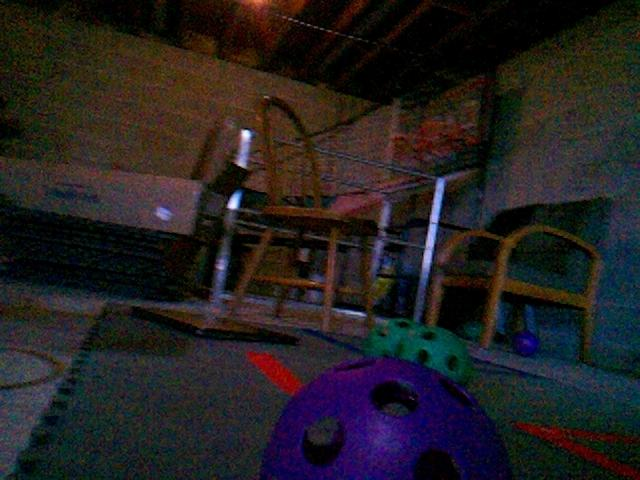Green: (261, 358, 508, 479), (397, 329, 473, 387), (365, 318, 424, 357), (460, 320, 485, 341)
Purple: (509, 329, 541, 359)
